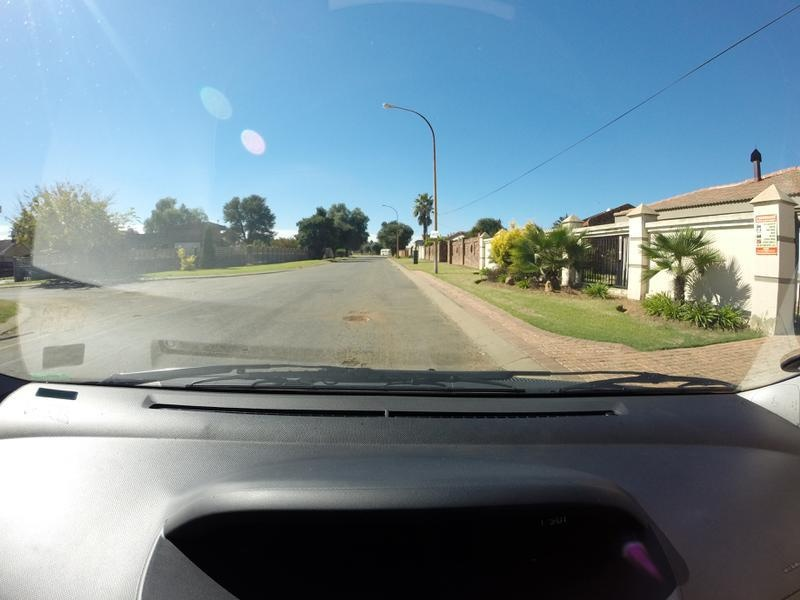pothole: (337, 308, 368, 322), (336, 356, 359, 364)
